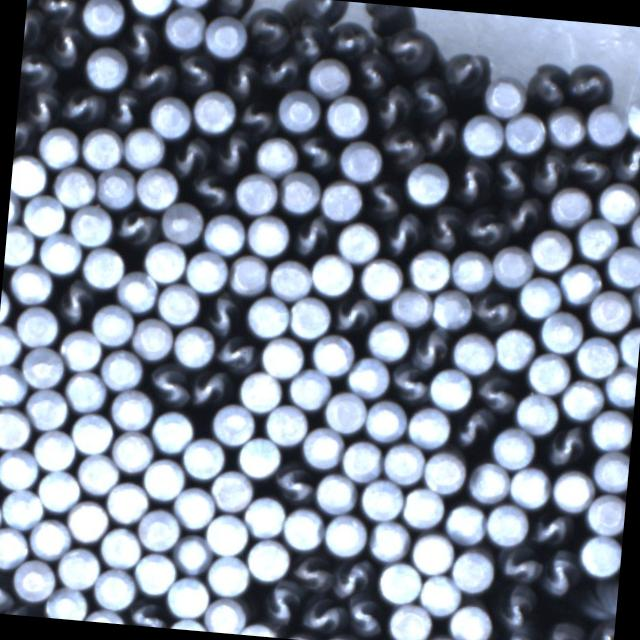tool: (405, 160, 452, 206), (81, 244, 128, 290), (266, 254, 312, 300), (276, 86, 322, 132), (334, 218, 380, 264), (245, 536, 291, 582), (358, 476, 404, 522), (246, 292, 292, 338), (538, 308, 584, 354), (258, 333, 304, 378), (512, 389, 558, 434), (80, 125, 126, 170), (192, 89, 238, 134), (489, 424, 535, 469), (362, 397, 408, 442), (52, 163, 98, 208), (134, 165, 180, 210), (89, 302, 135, 347), (211, 401, 257, 446), (422, 448, 468, 493), (586, 286, 632, 331), (516, 274, 562, 319), (338, 136, 384, 181), (200, 211, 247, 255), (428, 365, 473, 410), (377, 558, 422, 603), (527, 349, 572, 394), (323, 389, 368, 434), (69, 202, 114, 247), (310, 332, 356, 376), (407, 404, 453, 448), (246, 212, 292, 256), (338, 436, 382, 482), (358, 256, 404, 300), (146, 94, 192, 138), (314, 470, 360, 514), (323, 92, 369, 136), (132, 314, 176, 360), (238, 435, 284, 479), (322, 512, 368, 556), (450, 330, 496, 374), (238, 368, 284, 412), (180, 434, 226, 478), (9, 262, 55, 306), (309, 252, 354, 296), (382, 440, 426, 485), (595, 179, 640, 223), (143, 239, 188, 283), (23, 194, 68, 238), (574, 332, 618, 377), (156, 282, 201, 326), (105, 478, 150, 522), (36, 468, 81, 512), (35, 124, 80, 168), (20, 345, 65, 389), (486, 502, 530, 547), (306, 54, 351, 98), (83, 46, 128, 90), (160, 200, 205, 244), (588, 406, 633, 450), (164, 3, 208, 48), (150, 409, 194, 454), (108, 386, 154, 429), (100, 346, 146, 389), (490, 242, 533, 288), (186, 248, 230, 292), (468, 459, 512, 503), (400, 484, 444, 528), (282, 505, 326, 549), (302, 426, 346, 470), (449, 249, 493, 293), (264, 402, 308, 446), (406, 248, 450, 292), (288, 294, 332, 338), (277, 170, 321, 214), (412, 530, 456, 574), (460, 113, 504, 157), (318, 178, 362, 222), (528, 228, 572, 272), (578, 532, 622, 576), (509, 463, 553, 507), (166, 574, 210, 618), (452, 548, 496, 592), (366, 318, 410, 362), (58, 546, 102, 590), (141, 456, 185, 500), (137, 506, 181, 550), (204, 13, 248, 57), (204, 510, 248, 554), (12, 558, 56, 602), (558, 260, 602, 304), (444, 499, 488, 543), (482, 74, 526, 118), (234, 170, 279, 213), (288, 367, 333, 410), (15, 304, 60, 347), (552, 466, 595, 511), (121, 126, 166, 169), (32, 426, 77, 469), (205, 554, 250, 597), (38, 232, 84, 274), (494, 326, 536, 372), (344, 354, 390, 396), (243, 494, 286, 538), (210, 467, 254, 510), (133, 551, 176, 595), (253, 134, 297, 177), (419, 572, 463, 615), (548, 183, 592, 226), (576, 217, 620, 260), (98, 525, 142, 568), (60, 326, 104, 369), (65, 370, 109, 413), (65, 496, 108, 540), (1, 486, 44, 529), (117, 270, 160, 313), (28, 517, 72, 559), (172, 323, 214, 367), (70, 412, 114, 454), (26, 386, 70, 428), (502, 110, 546, 152), (227, 252, 269, 296), (561, 378, 605, 420), (110, 428, 154, 470), (368, 518, 412, 560), (76, 452, 120, 494), (93, 566, 137, 608), (171, 486, 215, 528), (431, 286, 474, 328), (586, 104, 629, 146), (585, 491, 626, 535), (96, 165, 137, 209), (387, 601, 433, 640), (391, 287, 435, 327), (544, 105, 586, 146), (447, 603, 493, 640), (0, 446, 39, 489), (10, 153, 48, 197), (592, 448, 630, 492), (80, 0, 126, 36), (204, 596, 247, 634), (45, 585, 90, 621), (174, 534, 212, 574), (605, 243, 640, 286), (0, 406, 31, 450), (4, 224, 36, 266), (604, 366, 637, 406), (0, 524, 28, 568), (0, 365, 27, 406), (617, 324, 640, 368), (0, 323, 23, 365), (238, 620, 282, 638), (85, 606, 127, 624), (6, 186, 22, 230), (129, 0, 173, 15), (168, 616, 210, 631), (625, 98, 640, 139), (628, 208, 640, 250), (0, 285, 12, 327), (630, 279, 640, 321), (170, 0, 211, 7), (421, 635, 466, 640)
tool_b: (381, 22, 436, 72), (246, 4, 290, 54), (494, 584, 538, 634), (538, 546, 580, 598), (144, 362, 190, 408), (566, 60, 613, 105), (444, 49, 493, 92), (126, 56, 175, 98), (260, 578, 302, 626), (381, 210, 423, 258), (186, 170, 234, 212), (472, 373, 518, 416), (288, 214, 331, 260), (528, 61, 570, 108), (544, 422, 586, 469), (300, 594, 346, 636), (472, 288, 518, 330), (289, 550, 335, 592), (56, 85, 102, 127), (210, 130, 252, 176), (502, 194, 544, 240), (372, 82, 412, 130), (462, 204, 506, 247), (272, 463, 316, 506), (168, 133, 211, 177), (330, 555, 373, 599), (408, 327, 451, 371), (451, 406, 494, 450), (409, 76, 451, 121), (213, 331, 259, 372), (55, 280, 96, 326), (426, 203, 466, 250), (452, 158, 492, 205), (173, 50, 217, 92), (201, 290, 243, 334), (343, 596, 385, 640), (496, 544, 542, 584), (530, 148, 570, 194), (330, 294, 376, 334), (294, 131, 337, 173), (379, 126, 424, 166), (328, 18, 373, 58), (388, 362, 430, 404), (528, 510, 572, 550), (258, 50, 302, 90), (421, 116, 461, 160), (46, 23, 85, 68), (364, 177, 404, 220), (566, 147, 610, 186), (489, 156, 528, 199), (122, 16, 160, 60), (112, 208, 156, 246), (188, 367, 228, 408), (104, 88, 143, 130), (289, 18, 328, 59), (582, 576, 618, 620), (236, 98, 276, 136), (24, 86, 60, 127), (351, 55, 389, 93), (223, 56, 259, 96), (20, 49, 54, 88), (613, 140, 640, 184), (128, 602, 168, 628), (540, 618, 587, 640), (301, 0, 347, 20), (37, 0, 78, 22), (22, 9, 44, 50), (14, 116, 34, 157), (587, 617, 615, 640), (0, 569, 14, 611), (213, 0, 255, 12), (494, 630, 537, 640)
